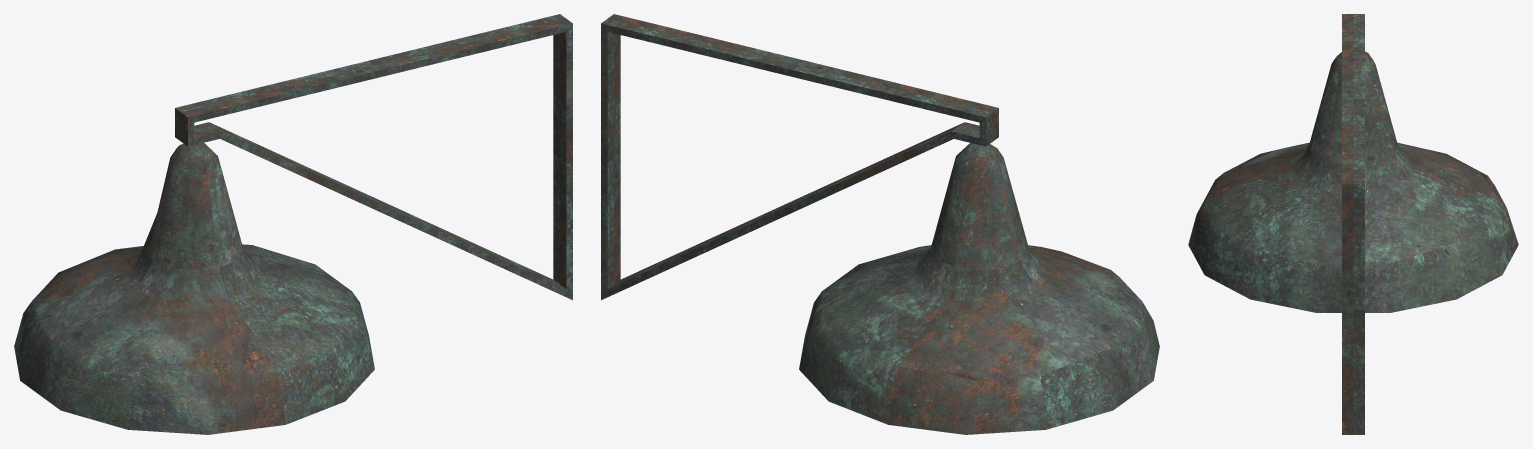
File: lamp2.FBX
3 renders of one model, left to right at view 1: azimuth 30°, elevation 25°; view 2: azimuth 150°, elevation 25°; view 3: azimuth 270°, elevation 25°, orthographic. The views are drawn at different scales.
Parts seen in each view (by area): view 1: lamp2; view 2: lamp2; view 3: lamp2.
Part boxes in pixels (x1,y1,x2,y2): lamp2: (14,14,572,434); lamp2: (601,14,1159,434); lamp2: (1188,14,1518,434).
Bounding box in the file's own units: 0.5685 × 0.2861 × 0.3416.
